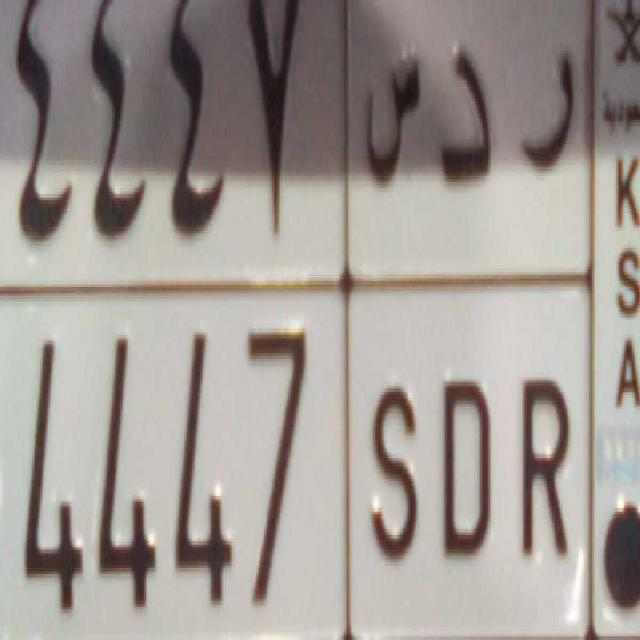license_plate: (2, 273, 585, 640)
